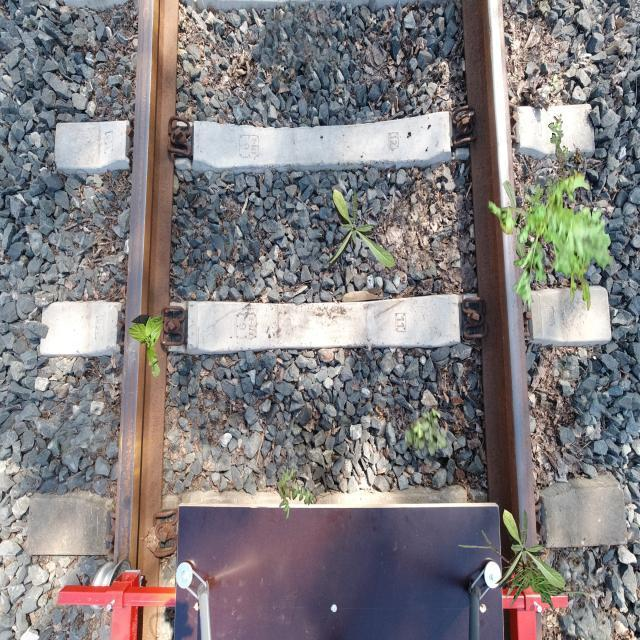Plant: (489, 167, 614, 314), (458, 522, 602, 612), (324, 188, 396, 269), (494, 509, 566, 590), (524, 114, 572, 218), (502, 180, 542, 262), (276, 466, 318, 520), (404, 407, 448, 457), (127, 314, 162, 376)
